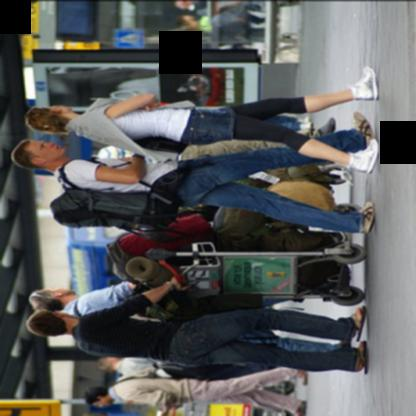backpack: (45, 160, 207, 240), (142, 362, 232, 379)
handbag: (149, 161, 191, 195), (133, 136, 189, 153)
suitcase: (106, 213, 215, 279)
